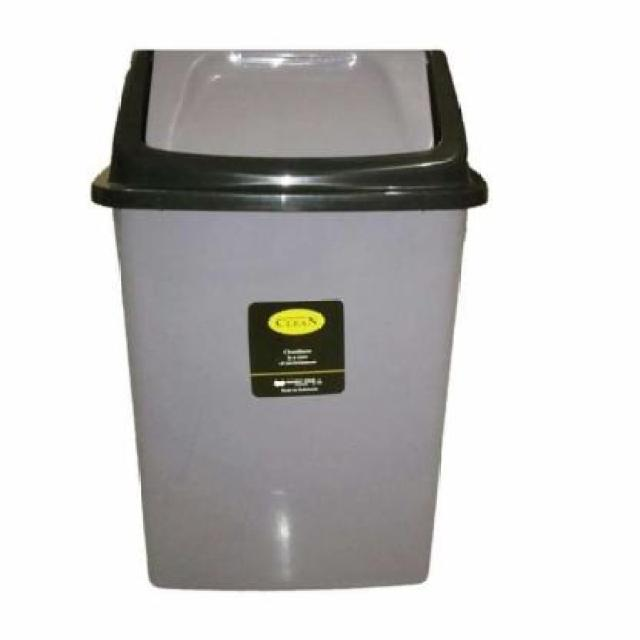garbage container: (80, 39, 500, 615)
